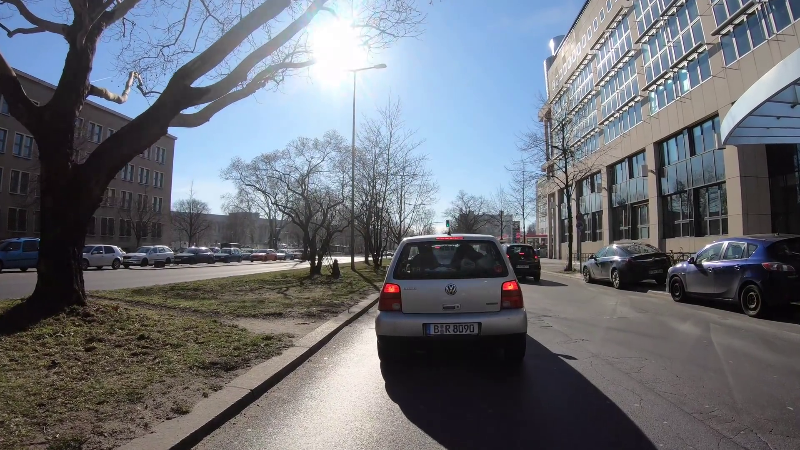Plate: (422, 322, 481, 334), (646, 266, 664, 275), (514, 263, 533, 269)
